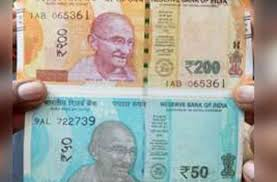fifty: (34, 111, 227, 180)
